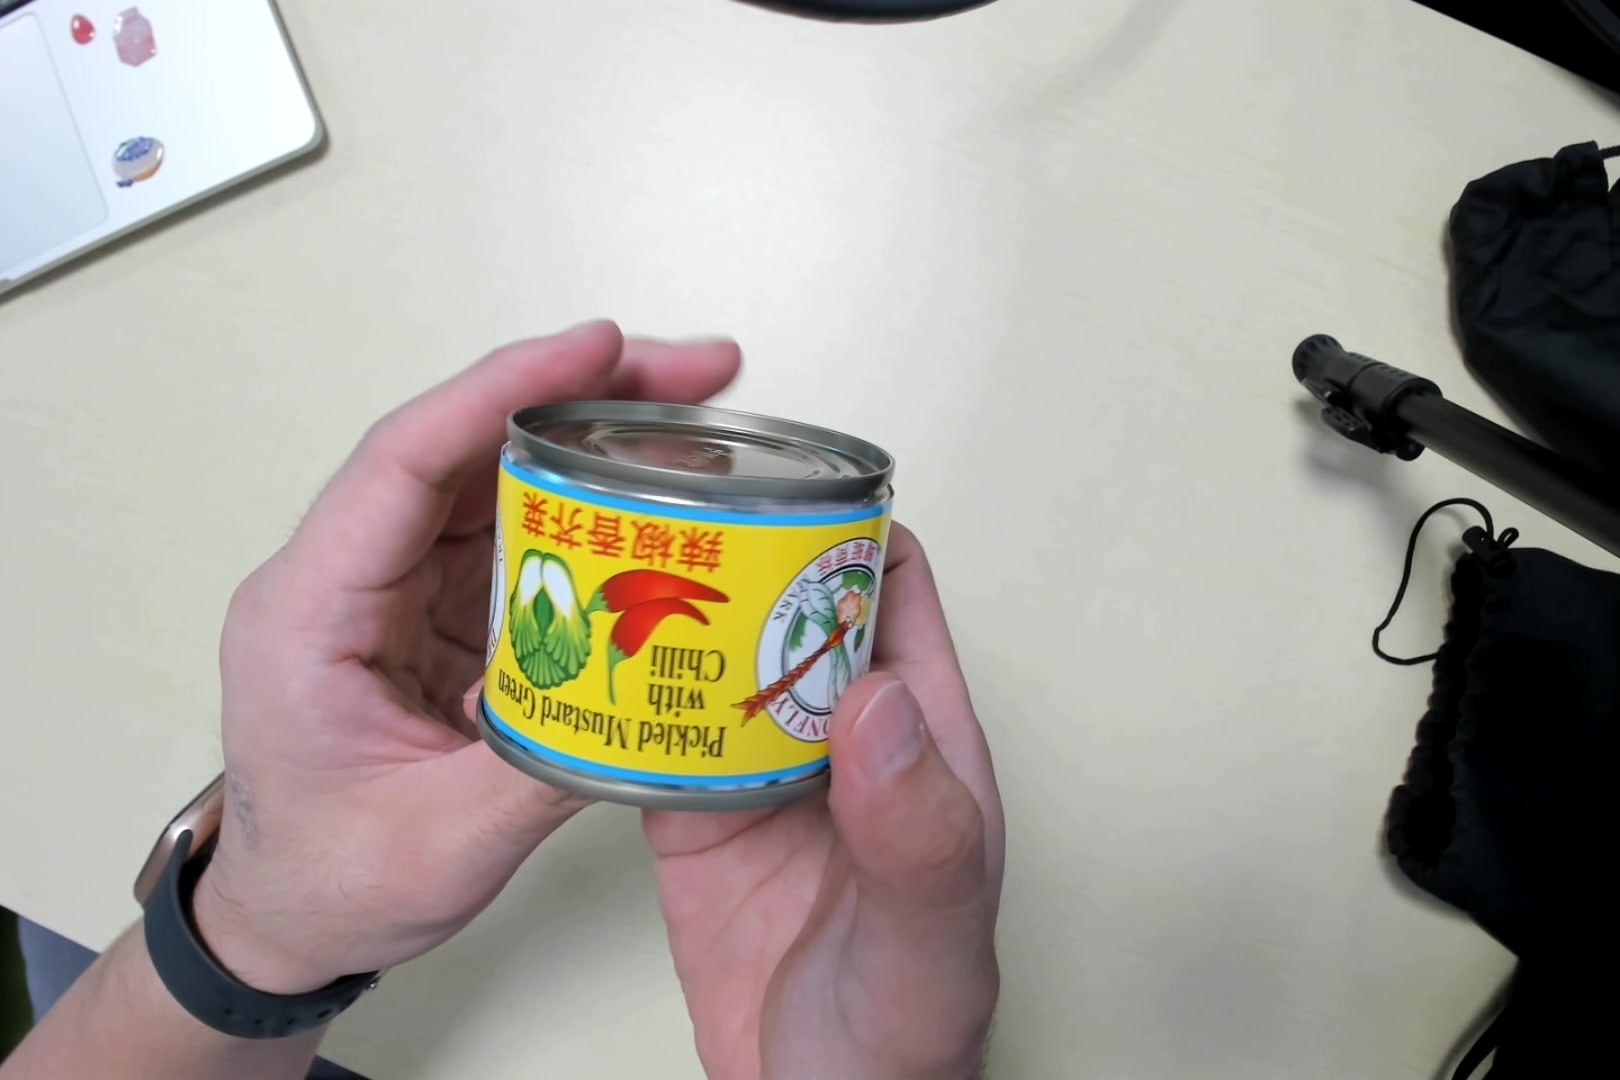CannedFruitsCocktail_0-99g_Halal_NonHealthy: (470, 401, 888, 796)
